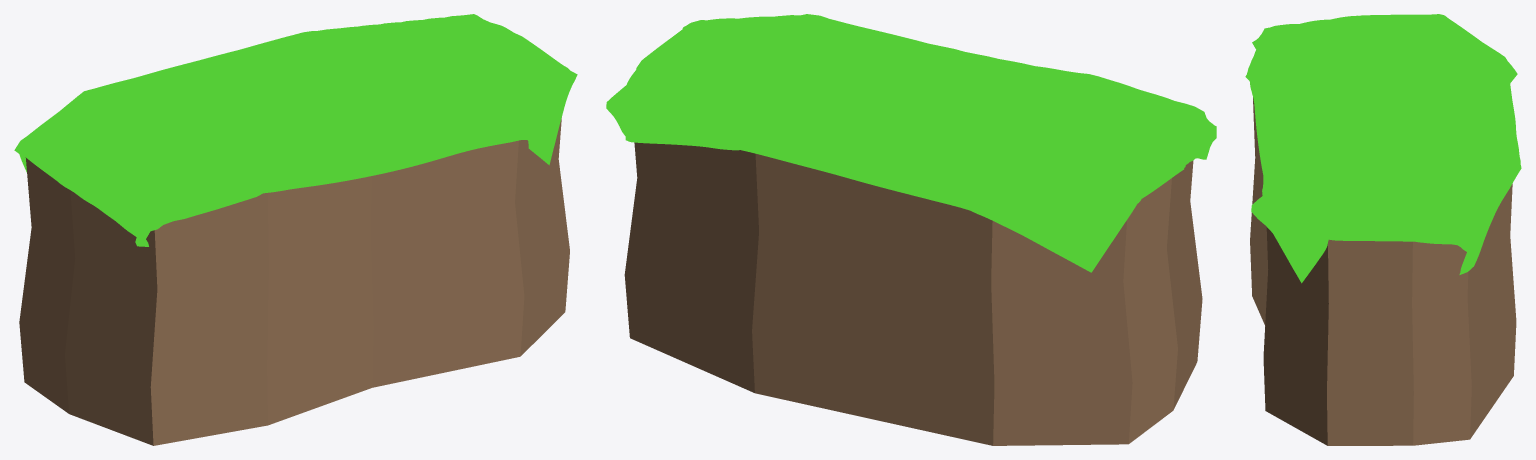
The model's file is Bloc03.fbx.
3 views of the same model, side by side, from view 1: azimuth 30°, elevation 25°; view 2: azimuth 150°, elevation 25°; view 3: azimuth 270°, elevation 25° (orthographic). The views are drawn at different scales.
Visible parts, largest first — view 1: Bloc03; view 2: Bloc03; view 3: Bloc03.
Boxes of the visible parts, x1,y1,x2,y2 form: Bloc03: [14, 14, 577, 445]; Bloc03: [606, 14, 1216, 445]; Bloc03: [1245, 14, 1521, 445].
Bounding box in the file's own units: 1037 × 492 × 548.
